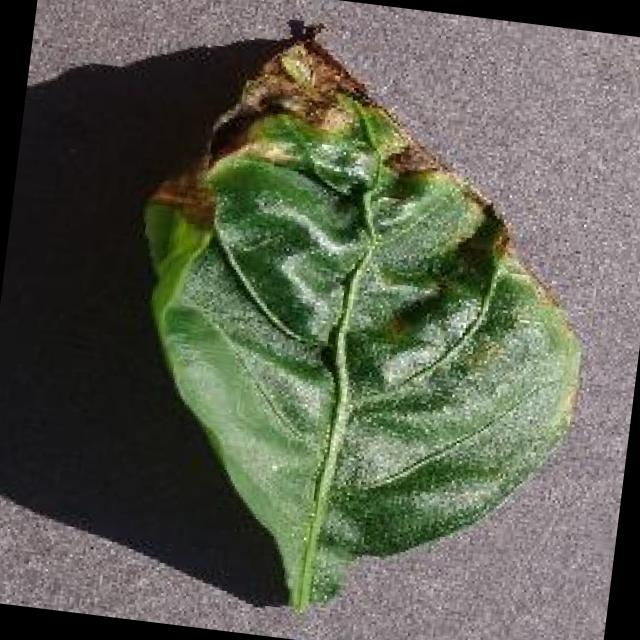Chilli_Bacterial_Spot: (93, 1, 624, 640), (378, 136, 442, 184), (268, 38, 322, 92), (279, 8, 330, 49)
